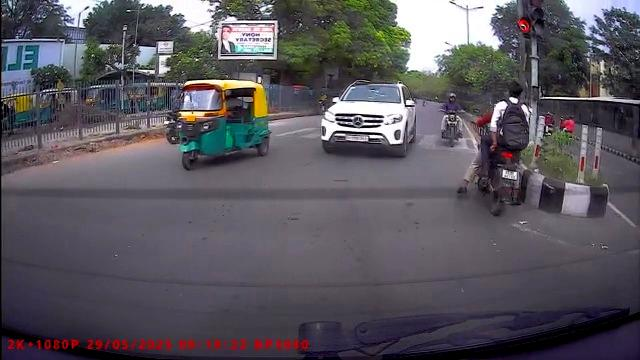motorcycle_with_helmet: (439, 91, 465, 148)
passenger_without_helmet: (475, 83, 531, 214)
